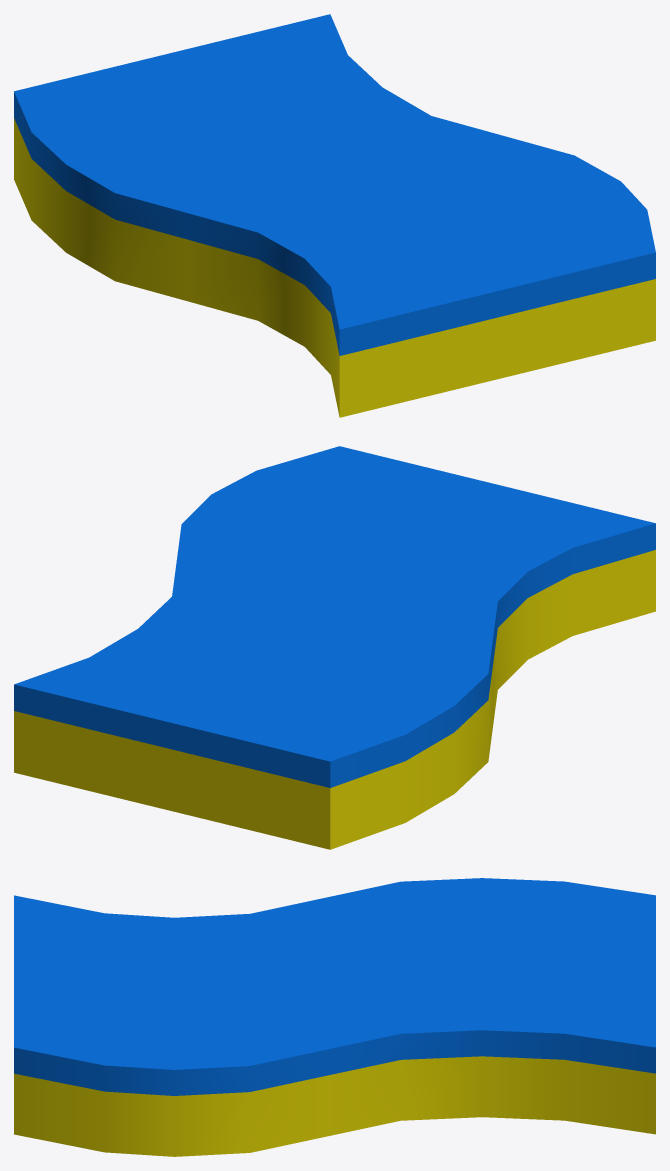
The model's file is Sponge.fbx.
The picture shows the model from 3 angles, top to bottom: view 1: azimuth 30°, elevation 25°; view 2: azimuth 150°, elevation 25°; view 3: azimuth 270°, elevation 25°; orthographic projection.
Visible parts, largest first — view 1: Sponge1; view 2: Sponge1; view 3: Sponge1.
Part boxes in pixels (x1,y1,x2,y2): Sponge1: (14, 14, 655, 417); Sponge1: (14, 446, 655, 849); Sponge1: (14, 878, 655, 1156).
Bounding box in the file's own units: 13.97 × 2.95 × 19.76.
